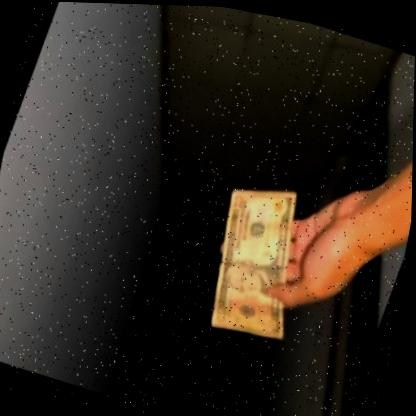ten-front: (185, 164, 337, 359)
